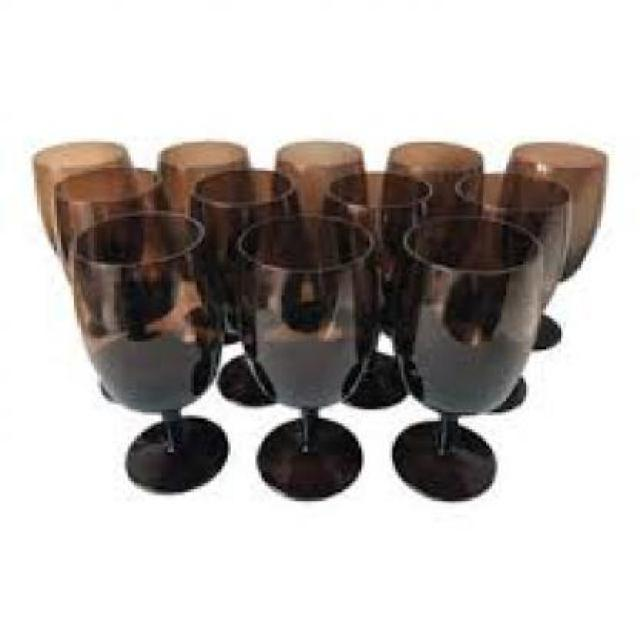kaca: (68, 208, 224, 489), (391, 211, 538, 500), (231, 211, 378, 500), (449, 171, 569, 412), (51, 165, 168, 402), (185, 168, 302, 404), (319, 171, 426, 403), (499, 140, 603, 351), (384, 140, 482, 351), (154, 140, 251, 345), (31, 140, 131, 265), (274, 140, 368, 258)
